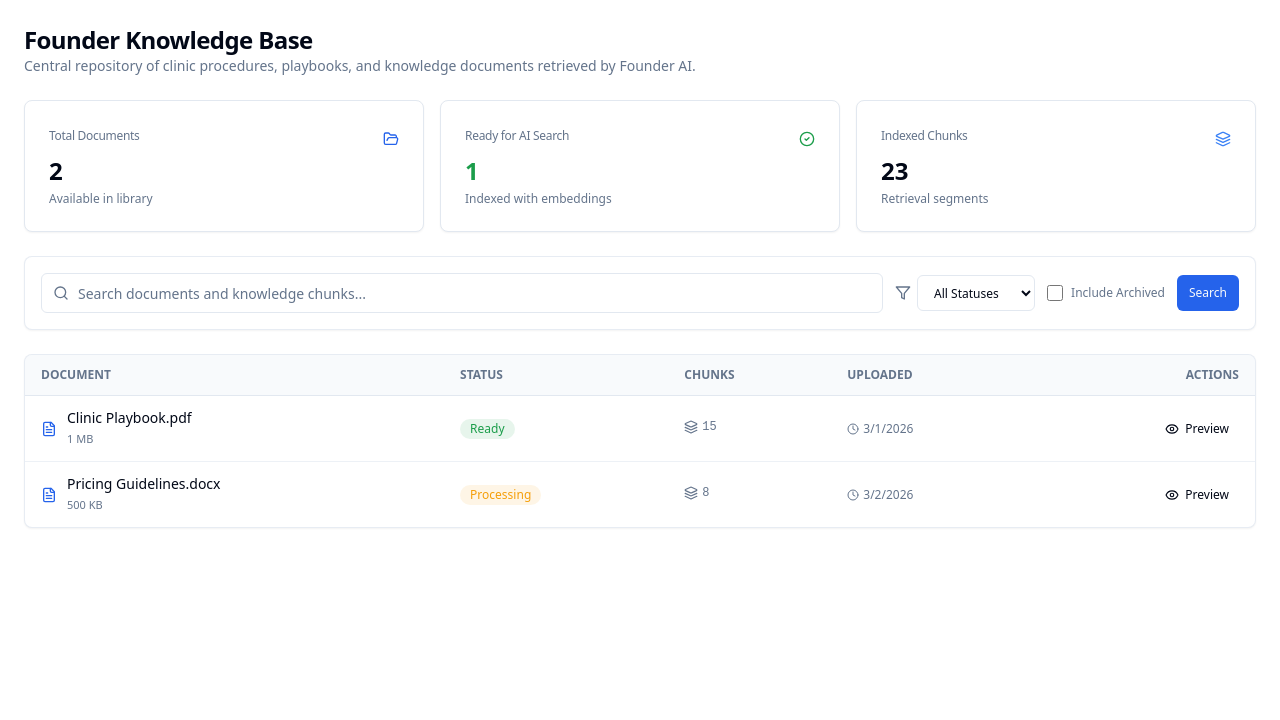
Scenario: KnowledgeBasePage › includes archived documents when the archive checkbox is toggled
Expected: the text "Archived Onboarding.txt" is not shown
Click the checkbox with test id "knowledge-archive-toggle" at [1055, 293], box [1047,285,1063,301]
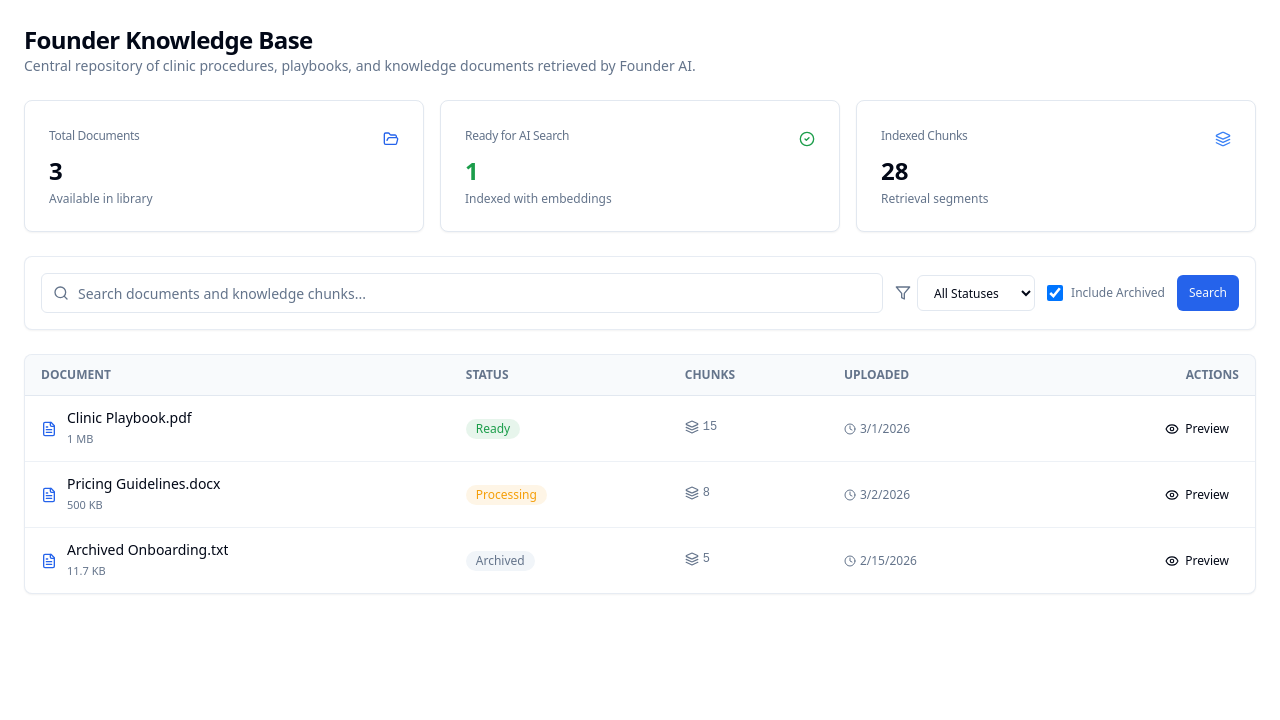
Now the text "Archived Onboarding.txt" is shown, box [67,540,228,560]
Now the text with test id "metric-total-docs" reads "3", box [49,154,63,187]
